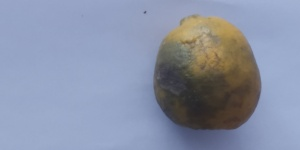BAD: (150, 14, 266, 132)
